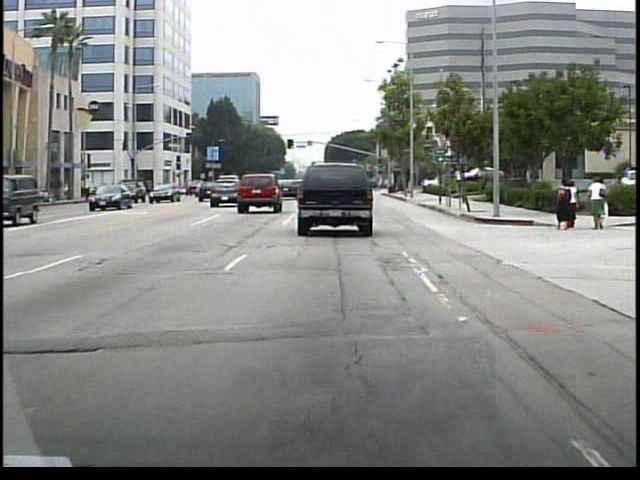person: (586, 174, 608, 231), (555, 176, 572, 233), (568, 180, 581, 229)
